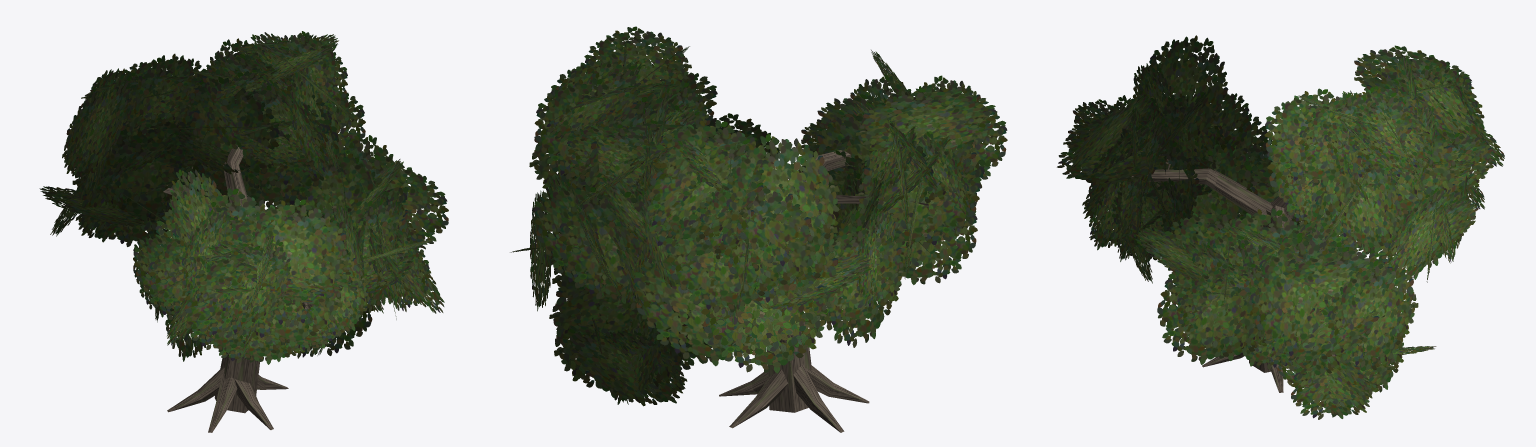
The model's file is TwistedTree_4_LOD1.gltf.
3 renders of one model, left to right at view 1: azimuth 30°, elevation 25°; view 2: azimuth 150°, elevation 25°; view 3: azimuth 270°, elevation 25°, orthographic. The views are drawn at different scales.
Parts seen in each view (by area): view 1: TwistedTree_4_LOD1; view 2: TwistedTree_4_LOD1; view 3: TwistedTree_4_LOD1.
Part boxes in pixels (x1,y1,x2,y2): TwistedTree_4_LOD1: (39, 31, 448, 432); TwistedTree_4_LOD1: (510, 26, 1007, 432); TwistedTree_4_LOD1: (1057, 35, 1504, 419).
Bounding box in the file's own units: 17.16 × 14.45 × 19.42.
Materials: 2 (2 with a texture image).
